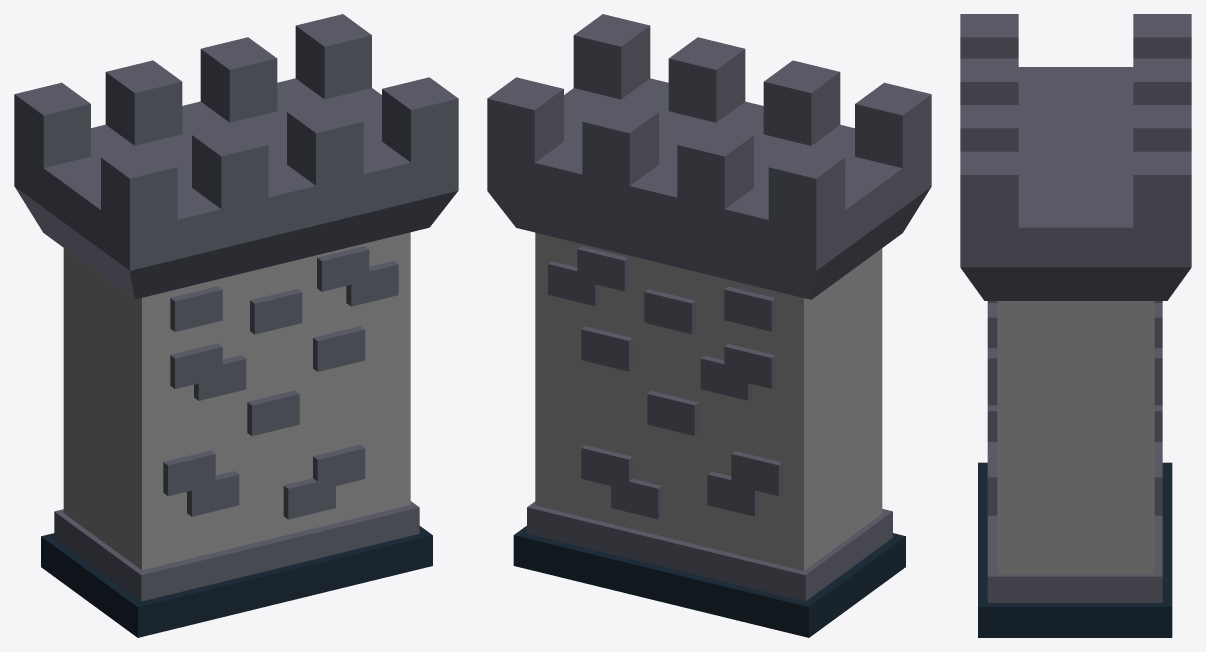
Rendered from wall gate 1.fbx.
3 views of the same model, side by side, from view 1: azimuth 30°, elevation 25°; view 2: azimuth 150°, elevation 25°; view 3: azimuth 270°, elevation 25° (orthographic).
Visible parts, largest first — view 1: wall gate; view 2: wall gate; view 3: wall gate.
Part boxes in pixels (<box>): wall gate: <box>14,14,458,637</box>; wall gate: <box>487,14,931,637</box>; wall gate: <box>960,14,1191,637</box>.
Size of the model in its own units: 819 by 1118 by 498.
